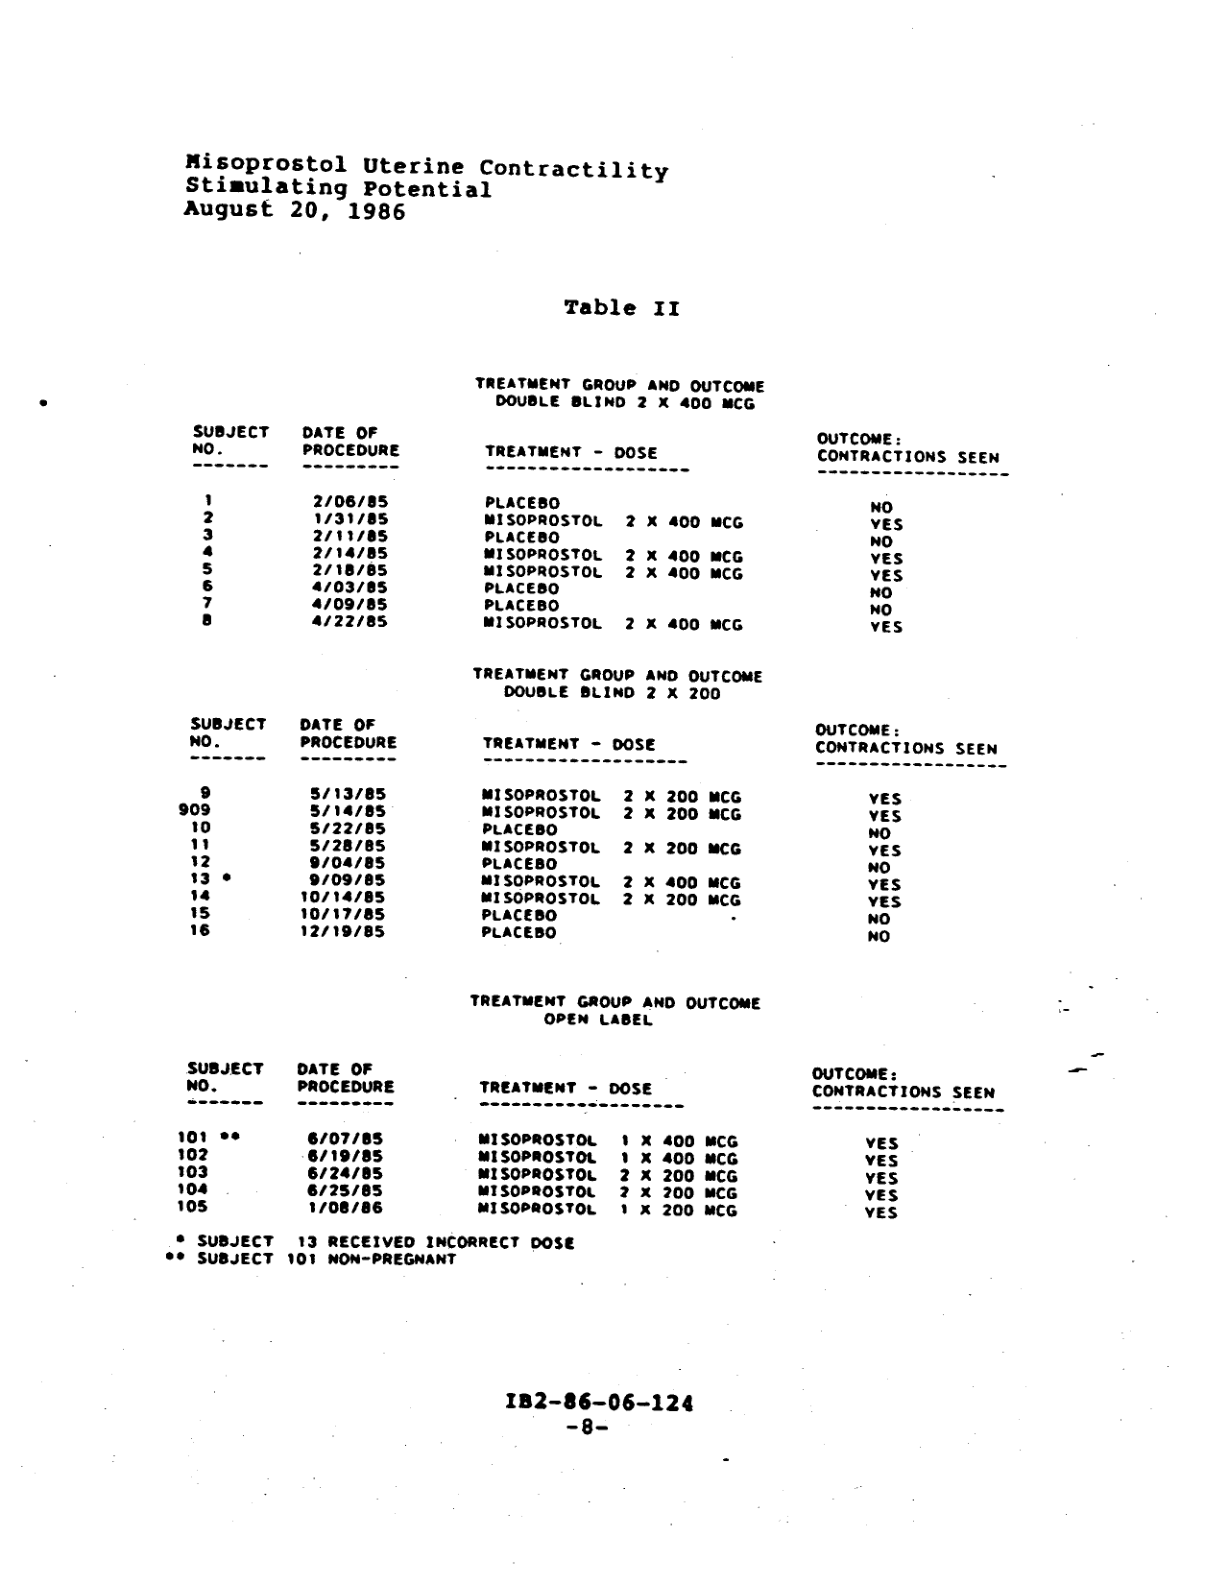nolines: (179, 711, 1011, 944), (186, 419, 1011, 634), (175, 1054, 1005, 1219)
